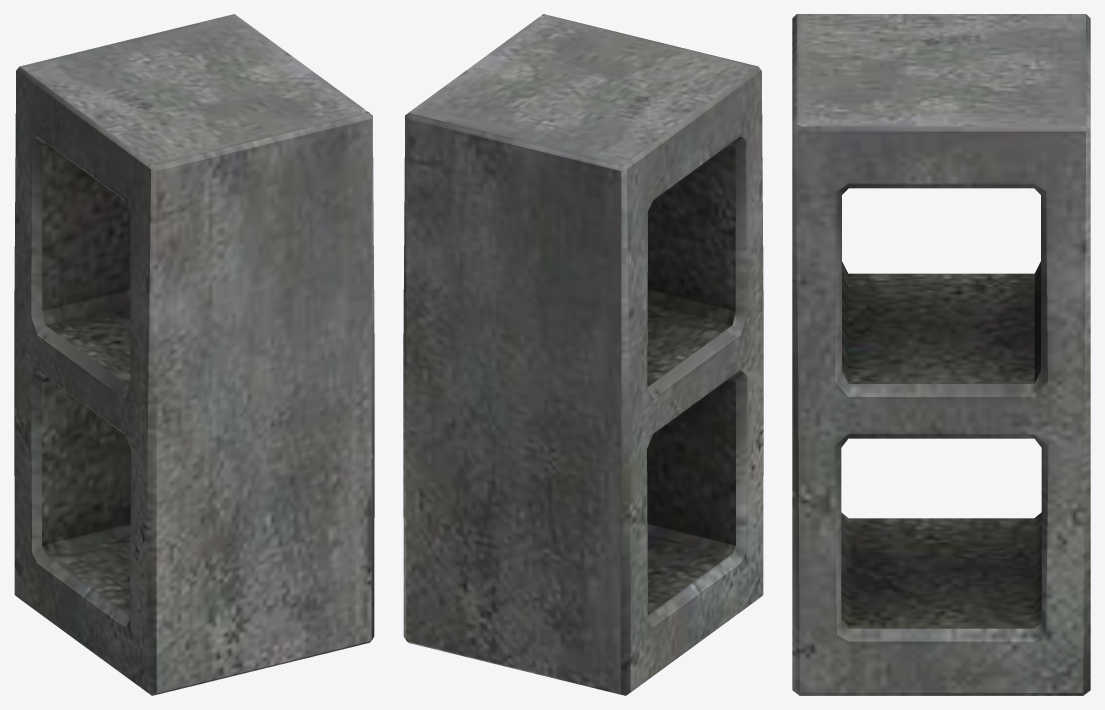
File: CinderBlock01a.glb
3 views of the same model, side by side, from view 1: azimuth 30°, elevation 25°; view 2: azimuth 150°, elevation 25°; view 3: azimuth 270°, elevation 25° (orthographic). The views are drawn at different scales.
Visible parts, largest first — view 1: 0_cinderblock01a; view 2: 0_cinderblock01a; view 3: 0_cinderblock01a.
Part boxes in pixels (x1,y1,x2,y2): 0_cinderblock01a: (14, 14, 374, 695); 0_cinderblock01a: (403, 14, 763, 695); 0_cinderblock01a: (792, 14, 1090, 695).
Size of the model in its own units: 0.2549 by 0.5702 by 0.2711.
Materials: 1 (1 with a texture image).
